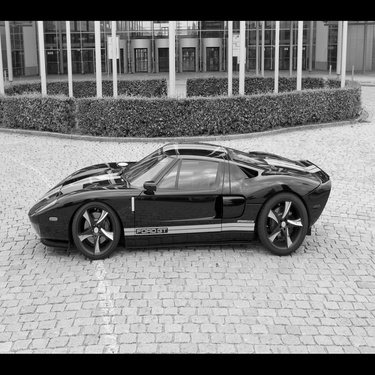car: (5, 135, 329, 258)
